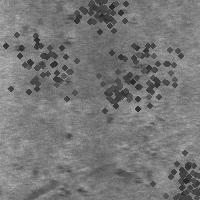rolled-in_scale: (0, 5, 98, 117), (92, 21, 194, 123), (102, 60, 168, 192), (18, 151, 87, 197), (153, 136, 200, 200), (92, 64, 142, 114), (67, 0, 131, 36)
